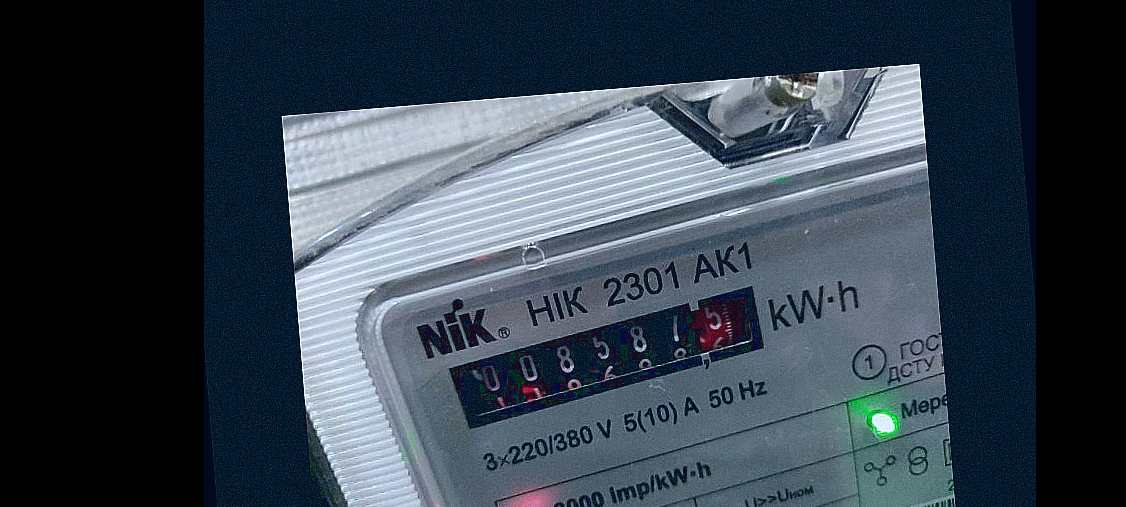0: (514, 348, 543, 384), (477, 359, 506, 393)
5: (589, 329, 614, 362), (701, 298, 725, 331)
6: (709, 333, 728, 351)
7: (663, 310, 687, 346)
8: (625, 320, 651, 355), (553, 341, 579, 375)
screen: (436, 282, 792, 432)
